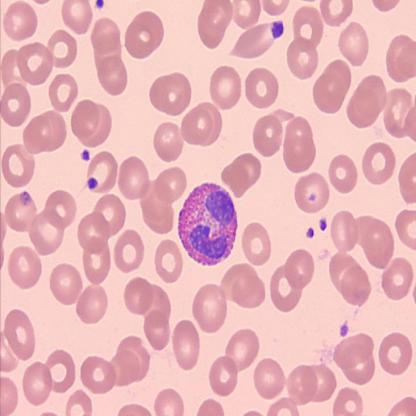Eosinophil: (178, 180, 240, 264)
